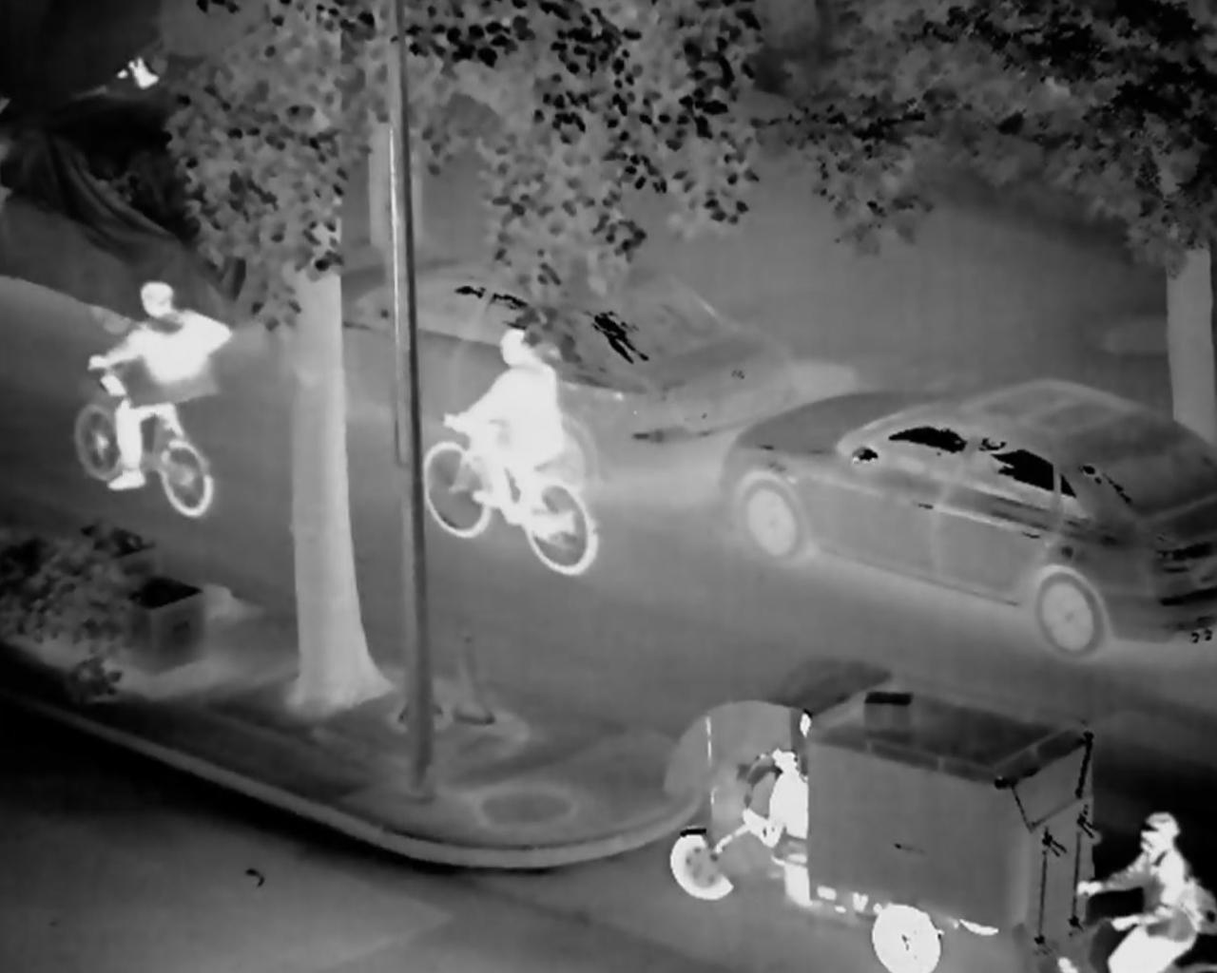person: (83, 279, 243, 514), (437, 316, 573, 540), (1079, 811, 1207, 973), (731, 731, 809, 852)
